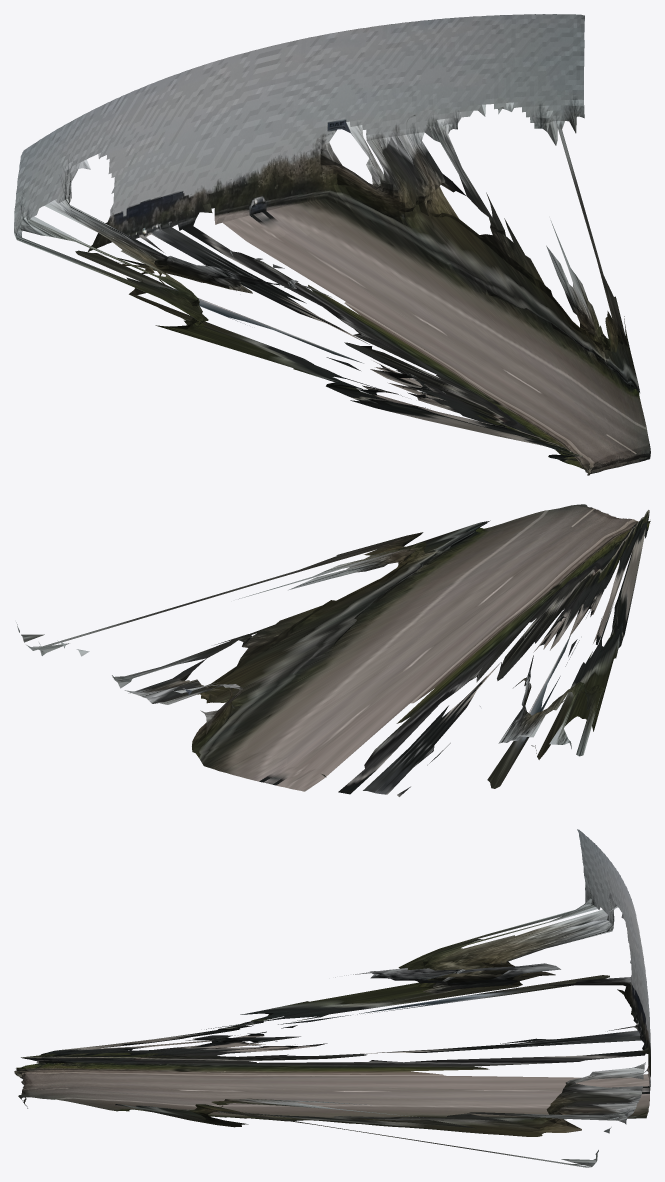
3 views of the same model, one above another, from view 1: azimuth 30°, elevation 25°; view 2: azimuth 150°, elevation 25°; view 3: azimuth 270°, elevation 25° (orthographic). The views are drawn at different scales.
Visible parts, largest first — view 1: defaultobject; view 2: defaultobject; view 3: defaultobject.
Part boxes in pixels (left/top/right/bottom): defaultobject: left=14, top=14, right=650, bottom=475; defaultobject: left=16, top=504, right=650, bottom=796; defaultobject: left=14, top=829, right=650, bottom=1167.
Size of the model in its own units: 41.06 by 11.93 by 44.66.
1 material, 1 textured.
